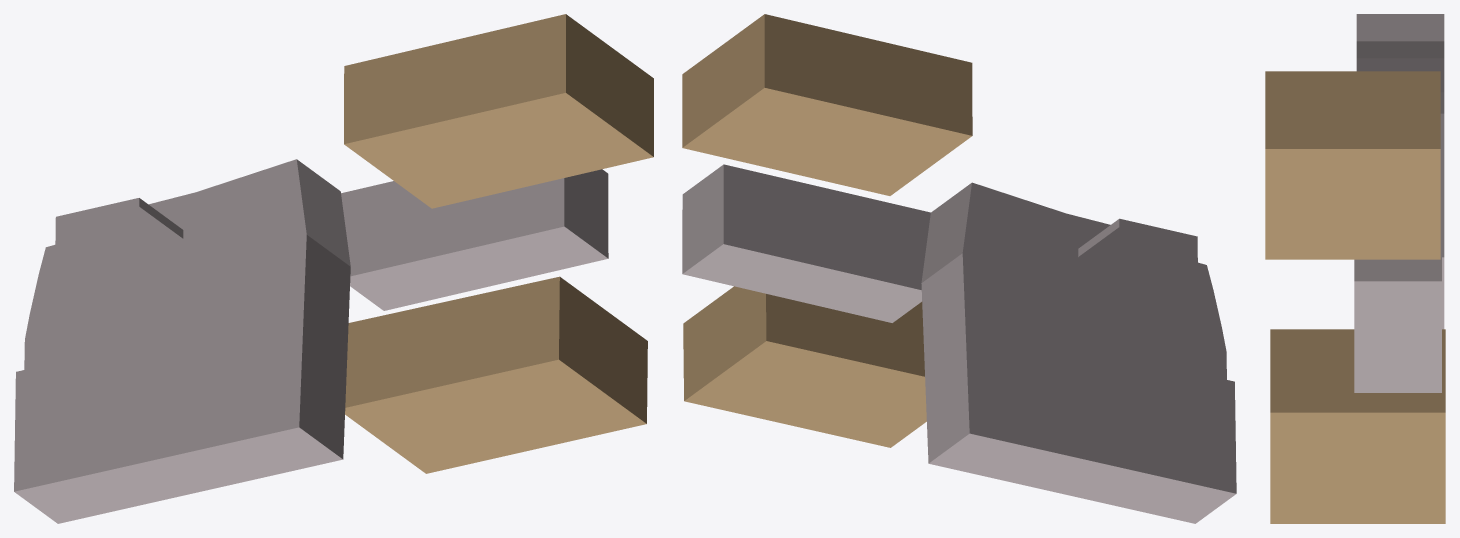
The picture shows the model from 3 angles, left to right: view 1: azimuth 30°, elevation 25°; view 2: azimuth 150°, elevation 25°; view 3: azimuth 270°, elevation 25°; orthographic projection. The views are drawn at different scales.
Visible parts, largest first — view 1: 0_3_0_1_2_2_2_1; view 2: 0_3_0_1_2_2_2_1; view 3: 0_3_0_1_2_2_2_1.
Boxes of the visible parts, x1,y1,x2,y2 form: 0_3_0_1_2_2_2_1: (14,14,653,523); 0_3_0_1_2_2_2_1: (682,14,1236,523); 0_3_0_1_2_2_2_1: (1265,14,1445,523).
Size of the model in its own units: 86.58 by 52.95 by 24.7.
